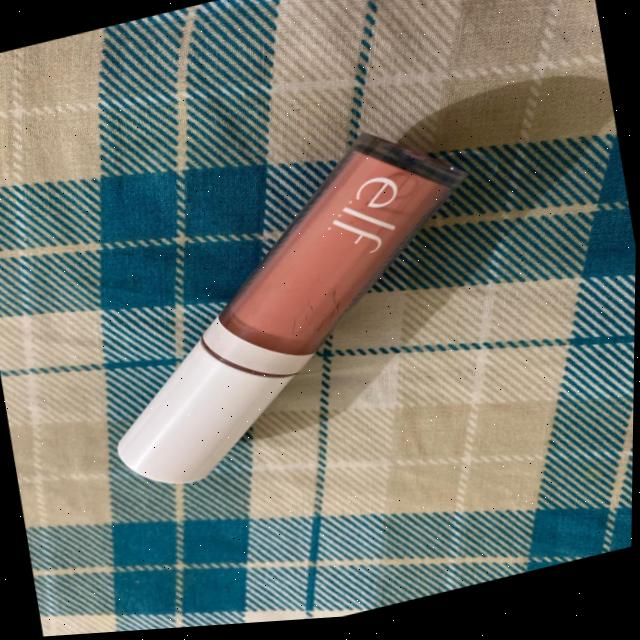lip gloss: (47, 90, 528, 521)
